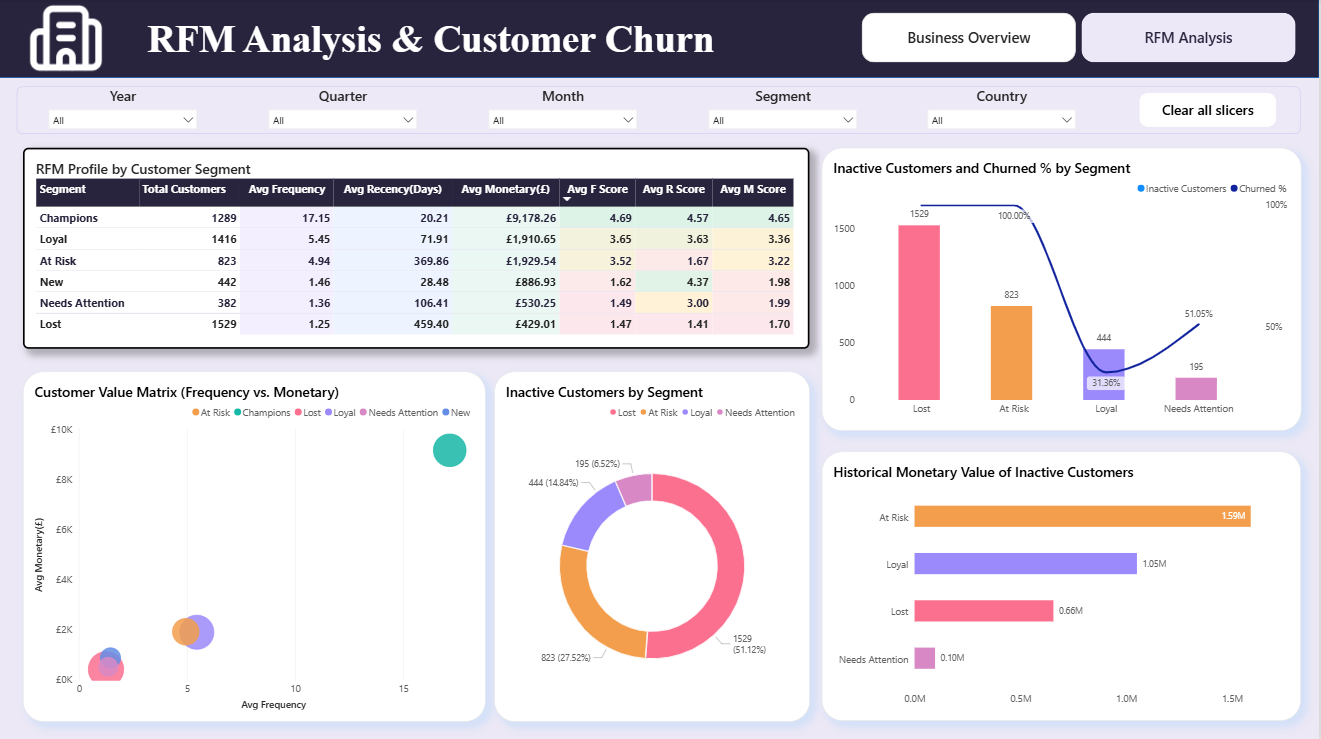

The page's visual inventory and layout, read from the dashboard file:
{"tool":"powerbi","page":{"name":"RFM Analysis","canvas":[1920,1080],"ordinal":1},"visuals":[{"type":"shape","box":[27.2,127.1,1864.8,69],"z":0},{"type":"shape","box":[0,0,1919.2,114.4],"z":1000},{"type":"textbox","box":[181.4,26.4,894,89.1],"z":2000},{"type":"slicer","title":"Year","fields":{"Values":["Dim_Date.Date.Variation.Date Hierarchy.Year"]},"box":[69.3,127.7,225.1,69.3],"z":3000},{"type":"slicer","title":"Quarter","fields":{"Values":["Dim_Date.Date.Variation.Date Hierarchy.Quarter"]},"box":[388.5,127.7,225.1,69.3],"z":4000},{"type":"slicer","title":"Month","fields":{"Values":["Dim_Date.Date.Variation.Date Hierarchy.Month"]},"box":[707.7,127.7,225.1,69.3],"z":5000},{"type":"slicer","title":"Segment","fields":{"Values":["RetailRFMTransactions.Segment"]},"box":[1026.9,127.7,225.1,69.3],"z":6000},{"type":"slicer","title":"Country","fields":{"Values":["RetailRFMTransactions.Country"]},"box":[1346.1,127.7,225.1,69.3],"z":7000},{"type":"actionButton","box":[1657.7,136.3,199.1,49.8],"z":8000},{"type":"image","box":[16.5,0,164.9,113.8],"z":9000},{"type":"tableEx","title":"RFM Profile by Customer Segment","fields":{"Values":["RetailRFMTransactions.Segment","Project_measures.Total Customers","Project_measures.Avg Frequency(Orders)","Project_measures.Avg Recency(Days)","Project_measures.Avg Monetary","Project_measures.Avg F Score","Project_measures.Avg R Score","Project_measures.Avg M Score"]},"box":[36.8,216.4,1142.7,292.2],"z":10000},{"type":"scatterChart","title":"Customer Value Matrix (Frequency vs. Monetary)","fields":{"Category":["RetailRFMTransactions.Segment"],"Y":["Project_measures.Avg Monetary(£)"],"X":["Project_measures.Avg Frequency"],"Series":["RetailRFMTransactions.Segment"],"Size":["Project_measures.Total Customers"]},"box":[36.3,541.1,671.8,508.4],"z":11001},{"type":"lineClusteredColumnComboChart","fields":{"Category":["RetailRFMTransactions.Segment"],"Y2":["Project_measures.Churned %"],"Y":["Project_measures.Inactive Customers"]},"box":[1196.8,216.4,696.9,411.2],"z":11002},{"type":"donutChart","fields":{"Category":["RetailRFMTransactions.Segment"],"Y":["Project_measures.Inactive Customers"]},"box":[720.7,541,458.8,508.6],"z":11003},{"type":"clusteredBarChart","title":"Historical Monetary Value of Inactive Customers","fields":{"Category":["RetailRFMTransactions.Segment"],"Y":["Project_measures.Inactive Historical Monetary"]},"box":[1197.4,658.1,696,390.9],"z":11004},{"type":"pageNavigator","box":[1254.7,20,631.9,72.6],"z":11005}]}

Visuals, with their boxes in screenshot pixels (x1, y1, x2, y2), scaled from the page's 1920x1080 canvas onto the 1321x739 screenshot:
shape: x1=19 y1=87 x2=1302 y2=134
shape: x1=0 y1=0 x2=1320 y2=78
textbox: x1=125 y1=18 x2=740 y2=79
"Year" slicer: x1=48 y1=87 x2=203 y2=135
"Quarter" slicer: x1=267 y1=87 x2=422 y2=135
"Month" slicer: x1=487 y1=87 x2=642 y2=135
"Segment" slicer: x1=707 y1=87 x2=861 y2=135
"Country" slicer: x1=926 y1=87 x2=1081 y2=135
actionButton: x1=1141 y1=93 x2=1278 y2=127
image: x1=11 y1=0 x2=125 y2=78
"RFM Profile by Customer Segment" tableEx: x1=25 y1=148 x2=812 y2=348
"Customer Value Matrix (Frequency vs. Monetary)" scatterChart: x1=25 y1=370 x2=487 y2=718
lineClusteredColumnComboChart - RetailRFMTransactions.Segment x Project_measures.Churned %: x1=823 y1=148 x2=1303 y2=429
donutChart - RetailRFMTransactions.Segment x Project_measures.Inactive Customers: x1=496 y1=370 x2=812 y2=718
"Historical Monetary Value of Inactive Customers" clusteredBarChart: x1=824 y1=450 x2=1303 y2=718
pageNavigator: x1=863 y1=14 x2=1298 y2=63
